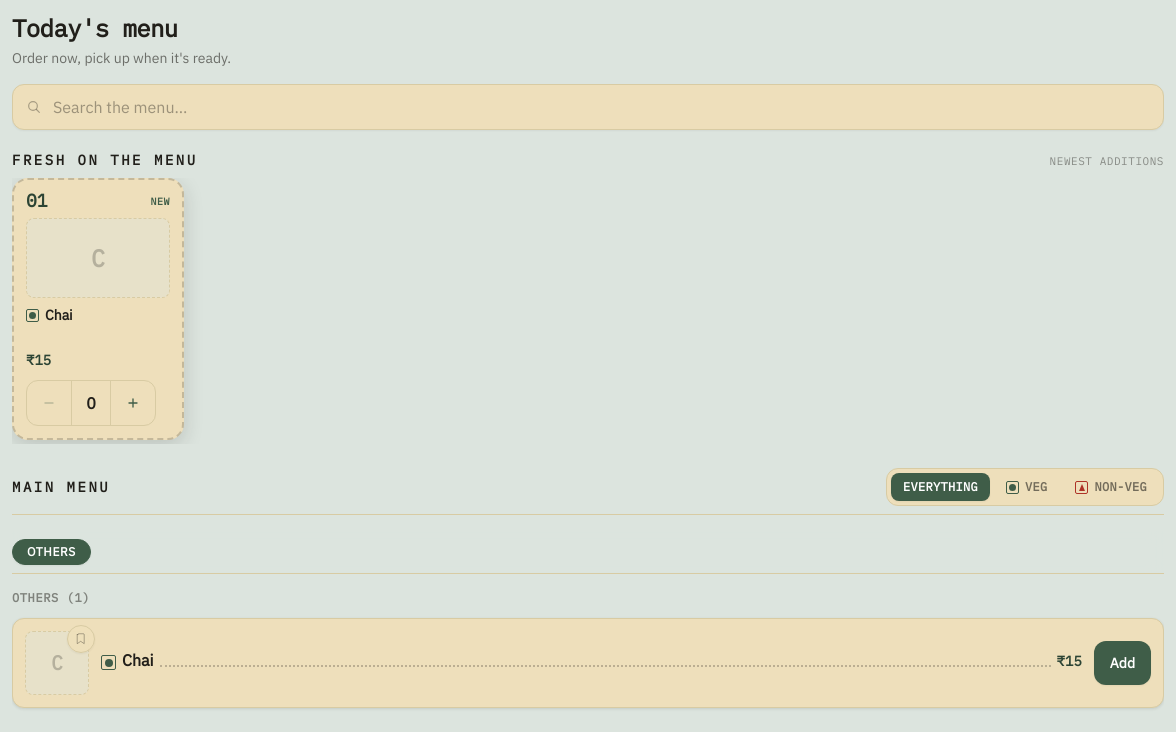
Scenario: Menu row — Add control collapses the stepper until qty > 0 (STATUS.md § 9.9-Y4) › decrementing back to 0 returns to the Add control
This screenshot has width=1176, height=732.
Check: the text "Chai" below "01" is shown, box [45,306,73,324]
Step 1. Type "Chai" into the search field labelled "Search the menu" → x=588, y=107, box [12,84,1164,130]
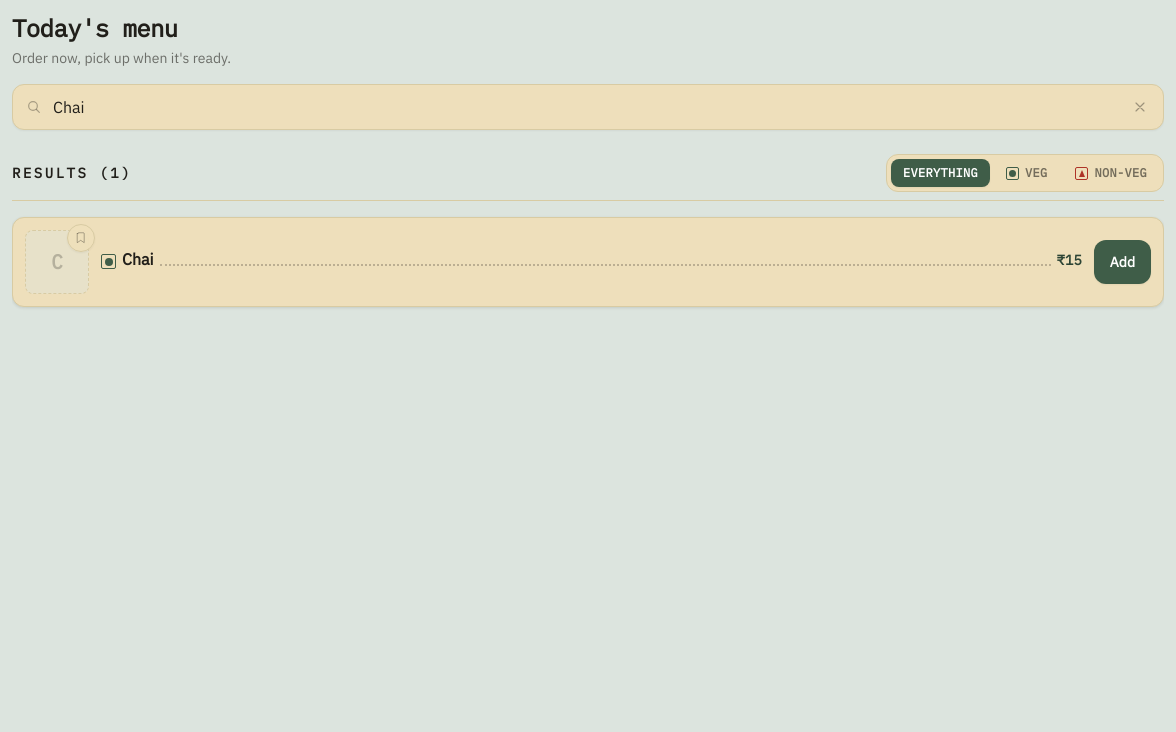
Check: the heading "Results (1)" is shown, box [12,163,132,183]
Step 2. Click the button with aria-label "Add Chai" → x=1122, y=262, box [1094,240,1151,284]
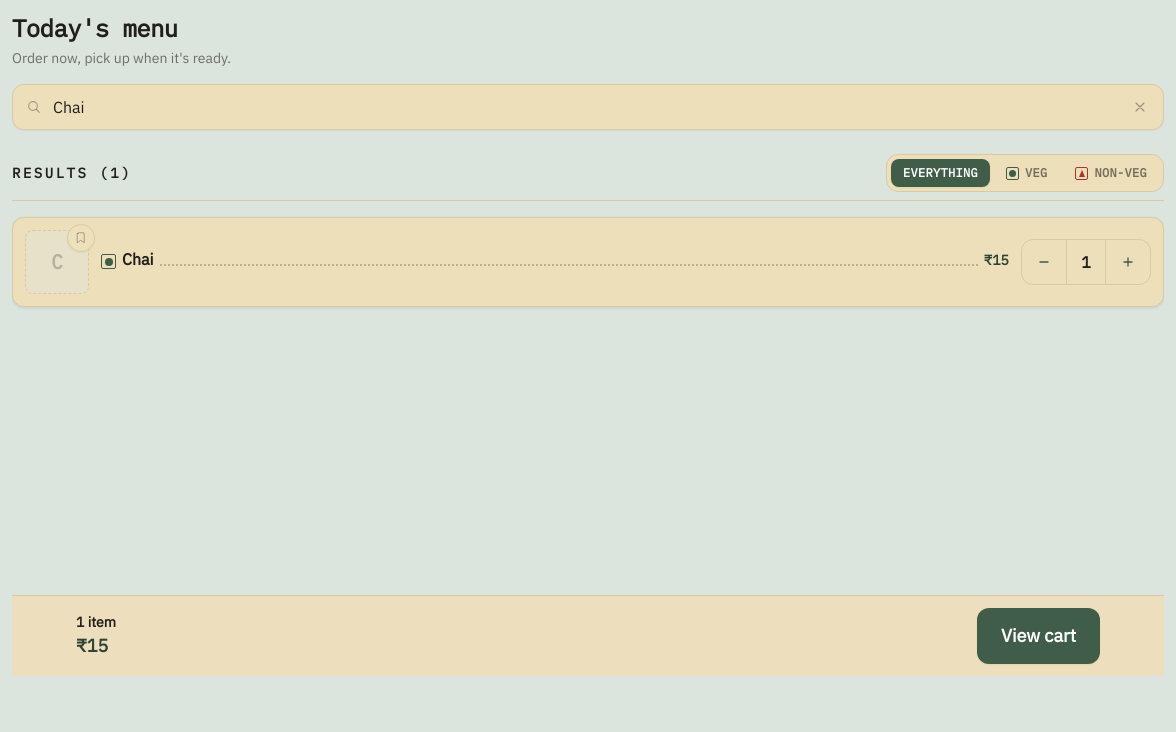
Check: the button named "Decrease quantity" is shown
Step 3. Click the button named "Decrease quantity" → x=1044, y=262, box [1022,240,1066,284]
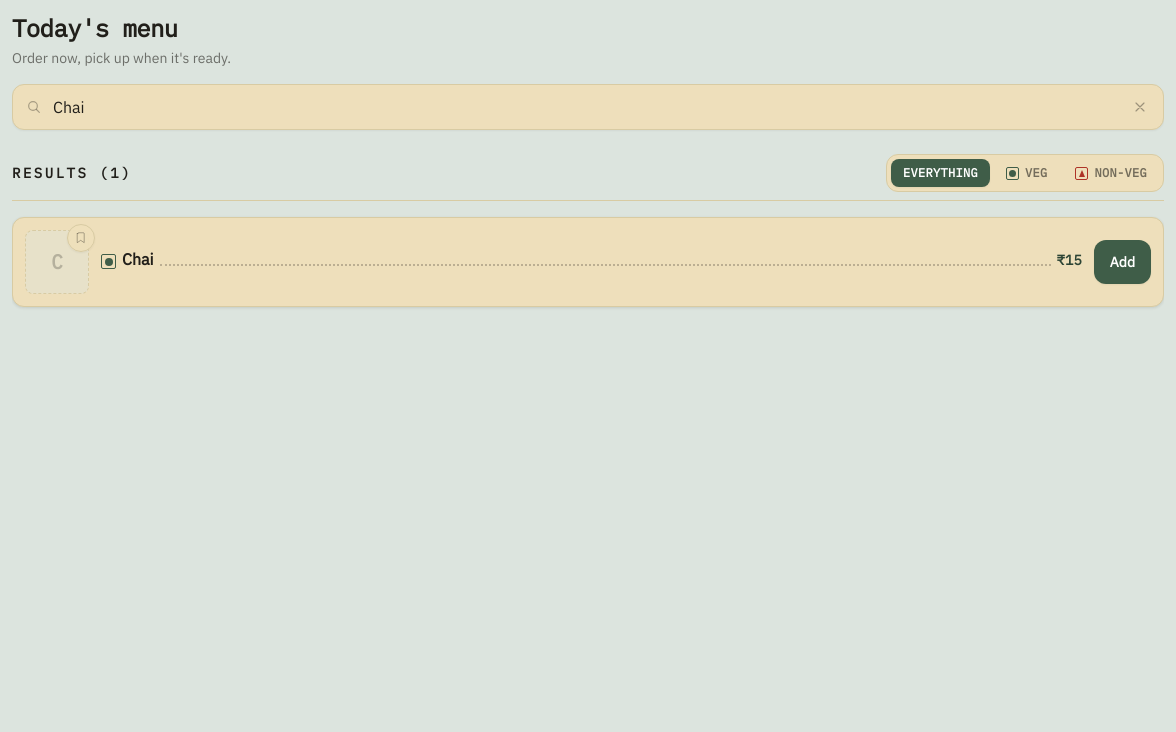
Check: the button with aria-label "Add Chai" is shown, box [1094,240,1151,284]
